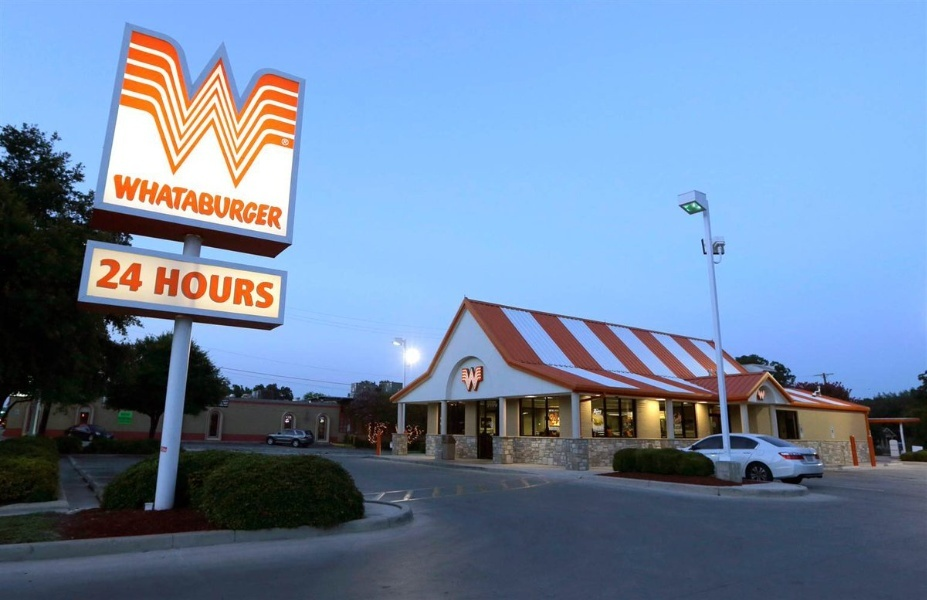text: (129, 174, 144, 231), (145, 174, 160, 231), (161, 174, 176, 231), (177, 174, 192, 231), (193, 174, 208, 231), (209, 174, 224, 231), (225, 174, 240, 231), (241, 174, 256, 231), (257, 174, 272, 231), (161, 265, 176, 309), (177, 265, 192, 309), (193, 265, 208, 309), (209, 265, 224, 309), (225, 265, 240, 309), (241, 265, 256, 309), (257, 265, 272, 309), (117, 174, 128, 231), (273, 174, 283, 231), (113, 258, 128, 294), (129, 258, 144, 294), (99, 258, 112, 294), (273, 265, 278, 309), (159, 265, 160, 309)
